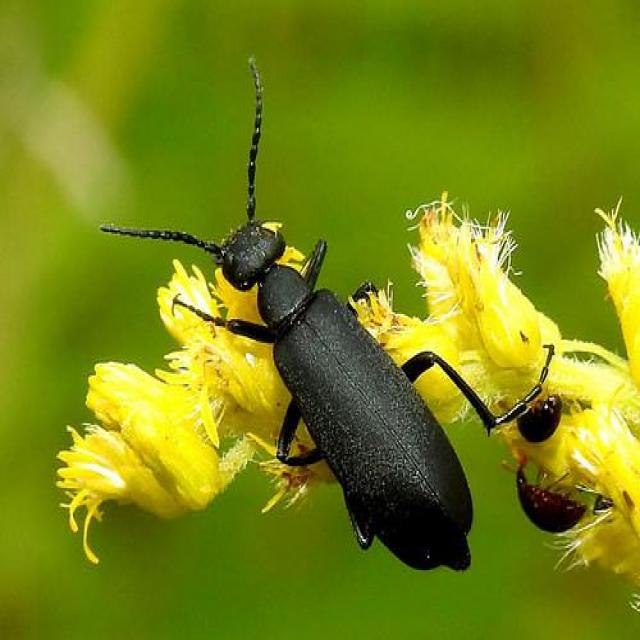BlisterBeetle-Adult-: (80, 52, 542, 575)
